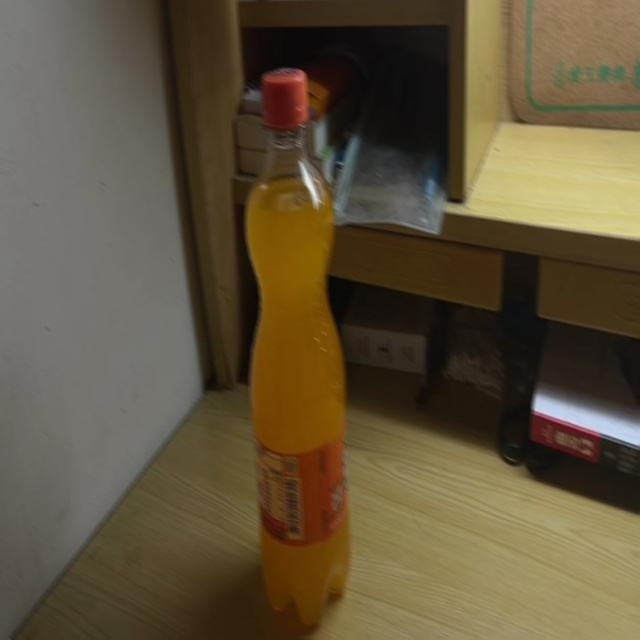Fanta: (246, 69, 353, 627)
